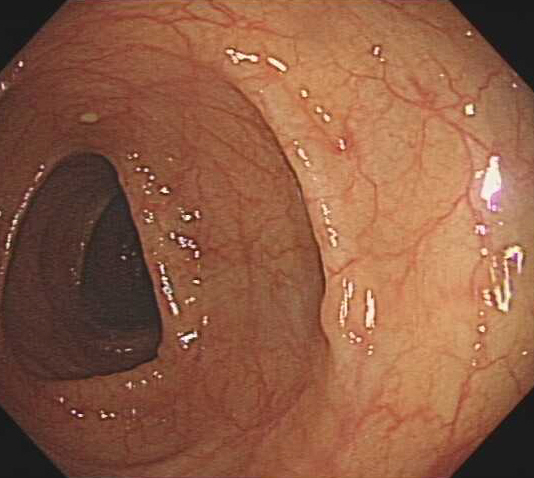adenoma: (318, 270, 384, 359)
